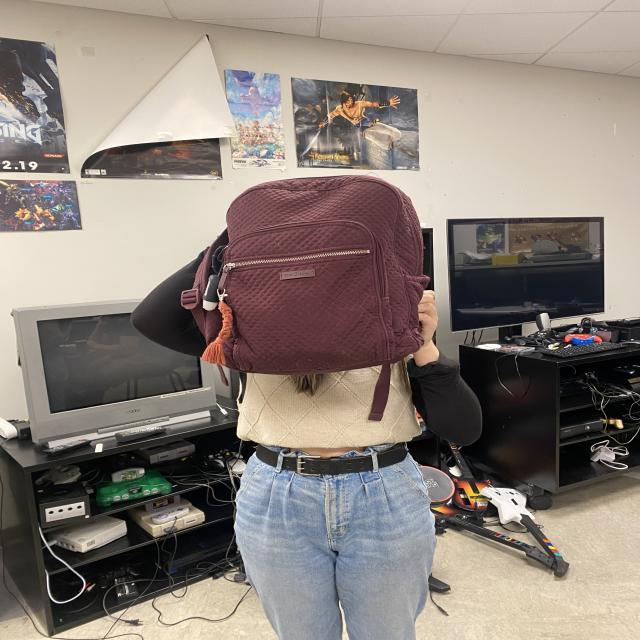Backpacks: (208, 177, 432, 364)
